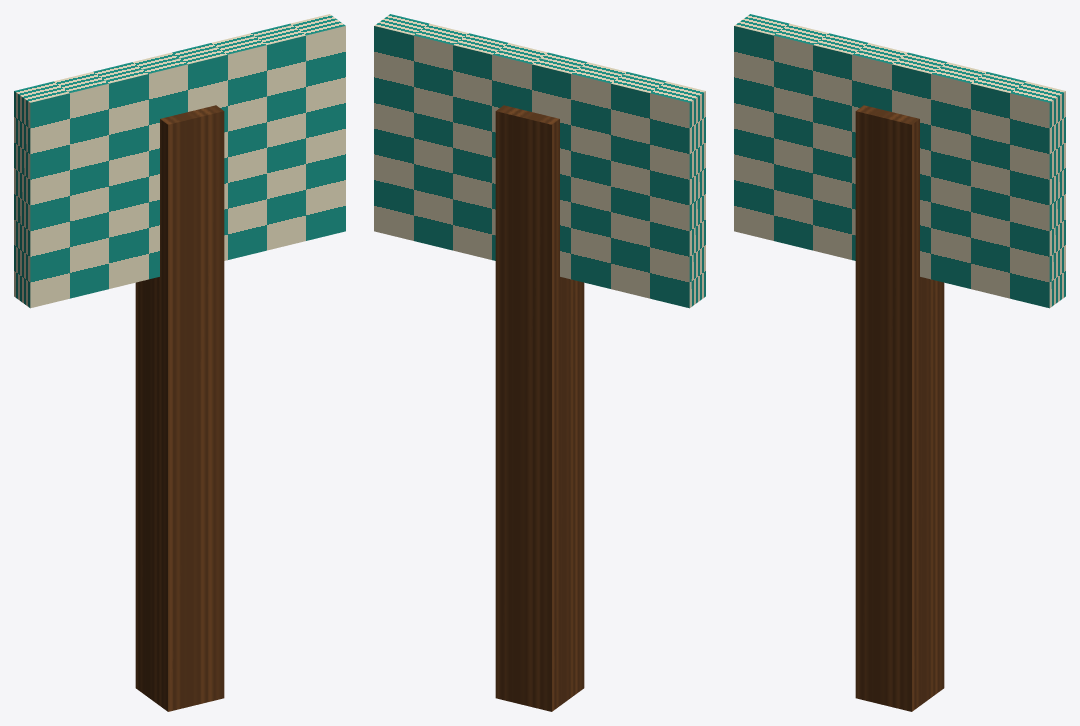
The model's file is signpost.glb.
3 renders of one model, left to right at view 1: azimuth 30°, elevation 25°; view 2: azimuth 150°, elevation 25°; view 3: azimuth 330°, elevation 25°, orthographic.
Parts seen in each view (by area): view 1: signpost; view 2: signpost; view 3: signpost.
Boxes of the visible parts, left/top/right/bottom form: signpost: left=14, top=14, right=345, bottom=711; signpost: left=374, top=14, right=705, bottom=711; signpost: left=734, top=14, right=1065, bottom=711.
Bounding box in the file's own units: 0.9 × 1.73 × 0.16.
Materials: 2 (2 with a texture image).
